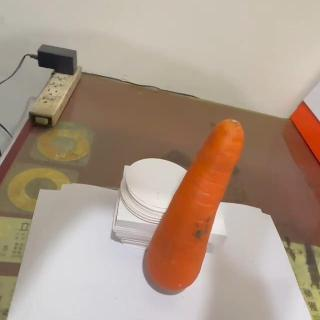carrot: (142, 117, 247, 292)
